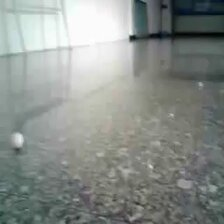w: (9, 132, 23, 149)
